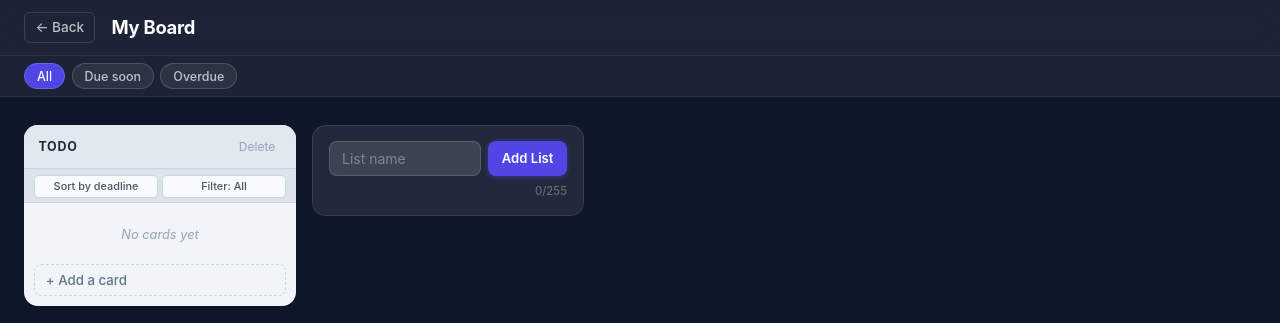
Test: create list › appends new list column without reload
The image size is (1280, 323).
Expected: the text "Todo" is shown, [38, 139, 78, 154]
Type "Review" into the field labelled "List name".
click(405, 158); type("Review")  # box [329, 141, 481, 176]
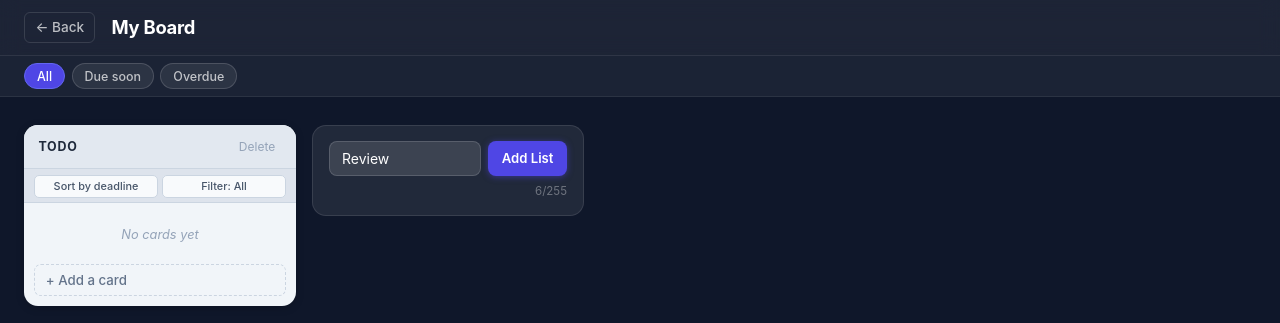
Click the button "Add List".
click(528, 158)  # box [488, 141, 567, 176]
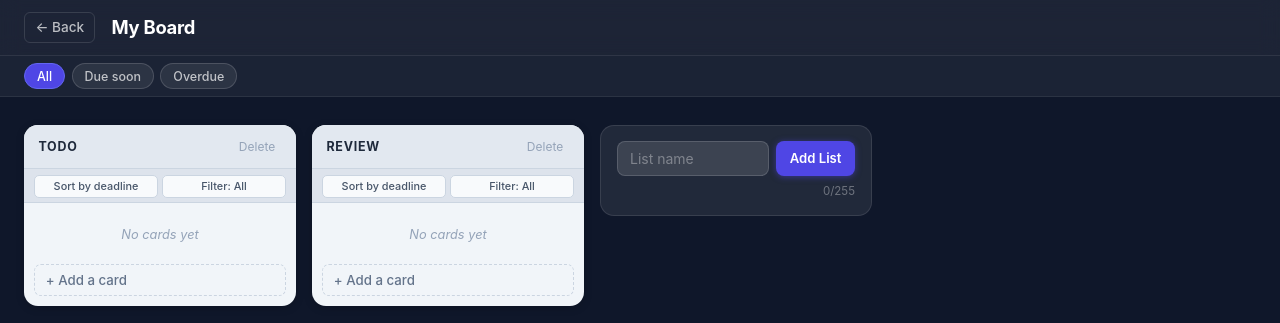
Expected: the text "Todo" is shown, [38, 139, 78, 154]
Result: the text "Review" is shown at [326, 139, 380, 154]
